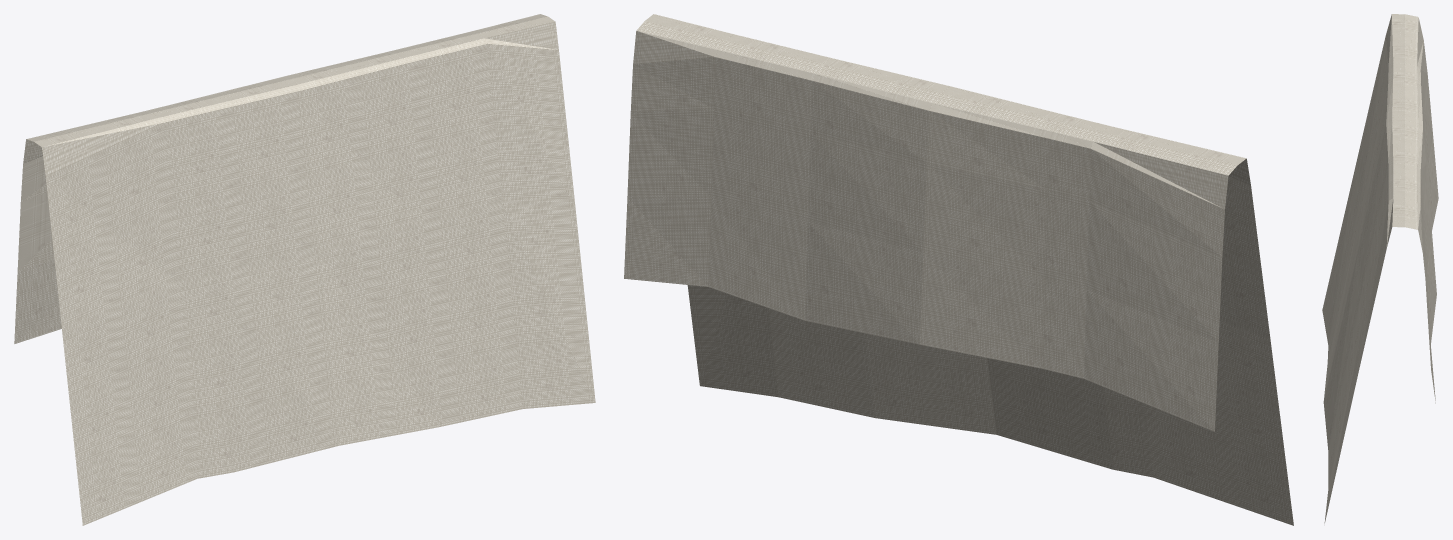
File: SM_MourningCloth_Draped_B.glb
3 renders of one model, left to right at view 1: azimuth 30°, elevation 25°; view 2: azimuth 150°, elevation 25°; view 3: azimuth 270°, elevation 25°, orthographic. The views are drawn at different scales.
Visible parts, largest first — view 1: SM_MourningCloth_Draped_B; view 2: SM_MourningCloth_Draped_B; view 3: SM_MourningCloth_Draped_B.
Boxes of the visible parts, bbox=[...] form: SM_MourningCloth_Draped_B: bbox=[14, 14, 595, 525]; SM_MourningCloth_Draped_B: bbox=[624, 14, 1293, 525]; SM_MourningCloth_Draped_B: bbox=[1322, 14, 1438, 523].
Size of the model in its own units: 0.6 by 0.3926 by 0.1385.
1 material, 1 textured.
